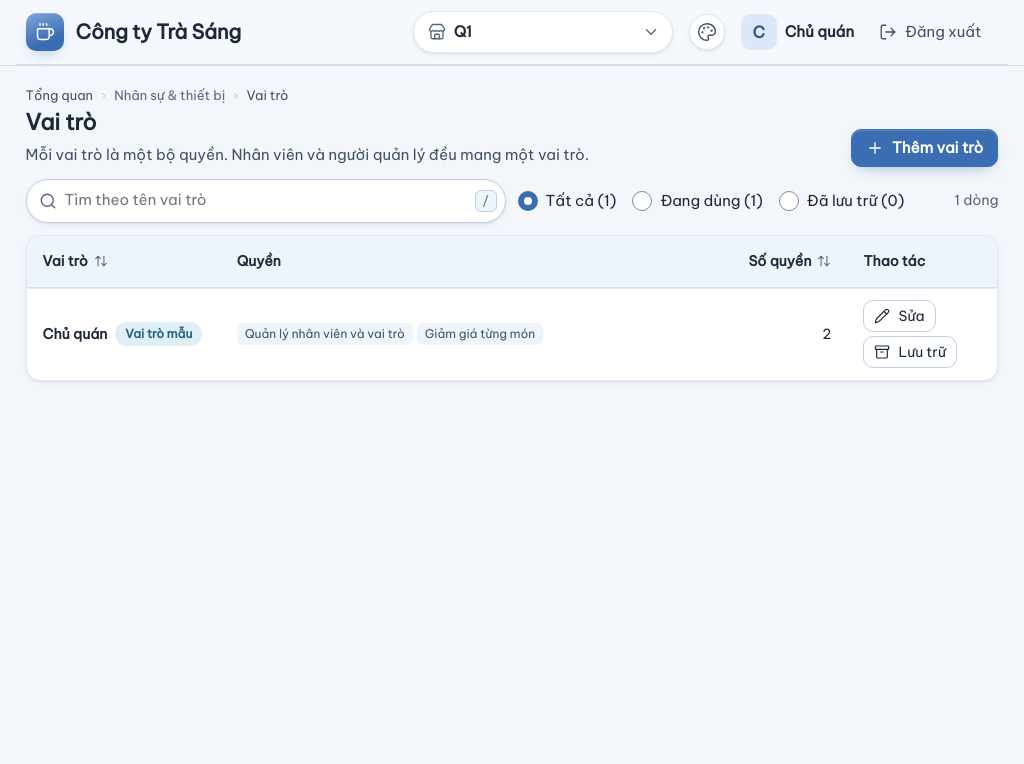
editing a role › says so when someone changed the role first, and keeps the form
The width and height of the screenshot is (1024, 764).
Expected: the dropdown named "Chi nhánh đang xem" is shown, x1=413 y1=11 x2=673 y2=53
Click the button "Sửa": (900, 316) x1=863 y1=300 x2=936 y2=332
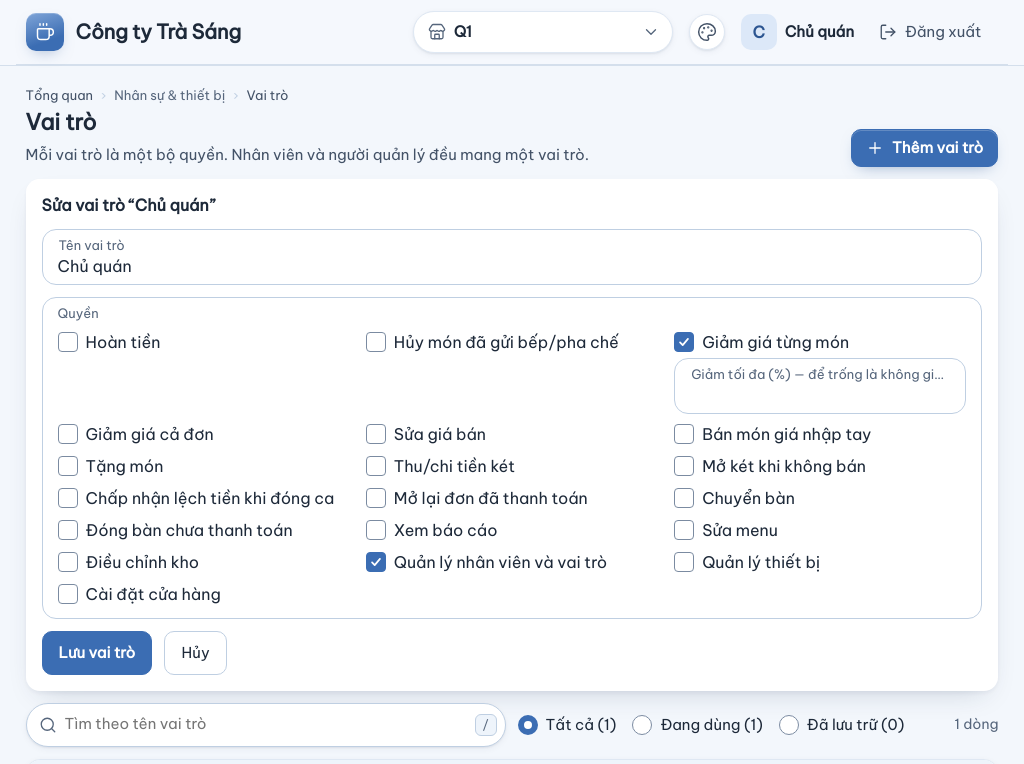
Click the button "Lưu vai trò": (97, 652) x1=42 y1=630 x2=152 y2=674
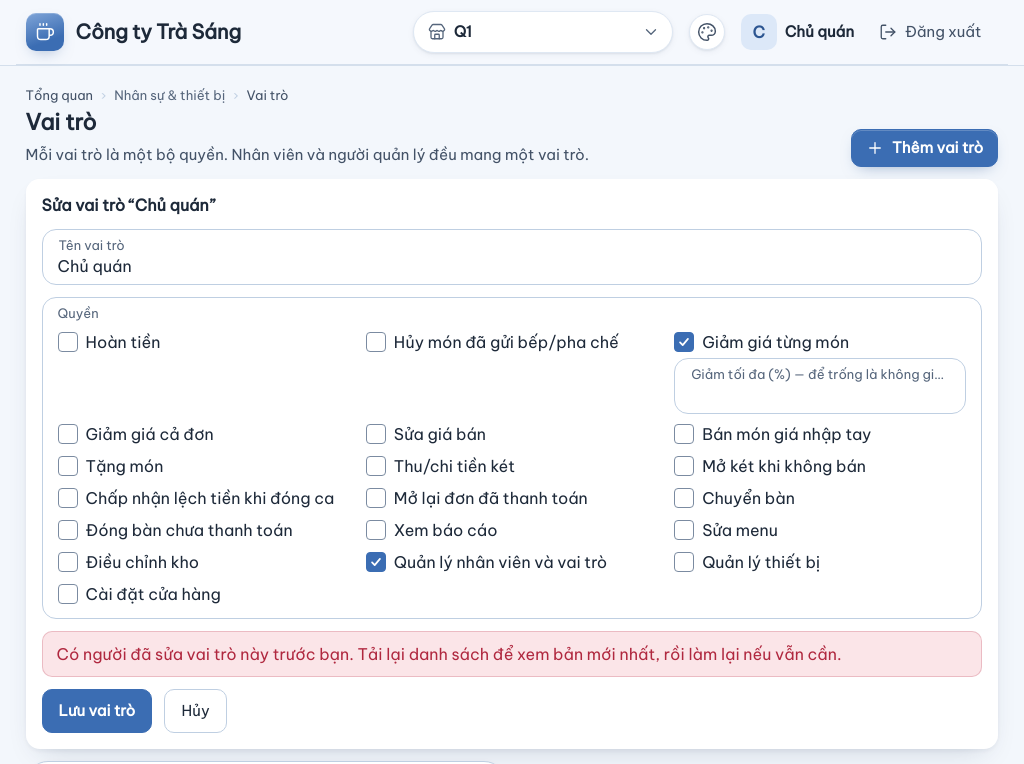
Result: the button "Lưu vai trò" is shown at x1=42 y1=688 x2=152 y2=732
Result: the message shows "Có người đã sửa vai trò này trước bạn. Tải lại danh sách để xem bản mới nhất, rồi làm lại nếu vẫn cần." at x1=57 y1=644 x2=842 y2=664
